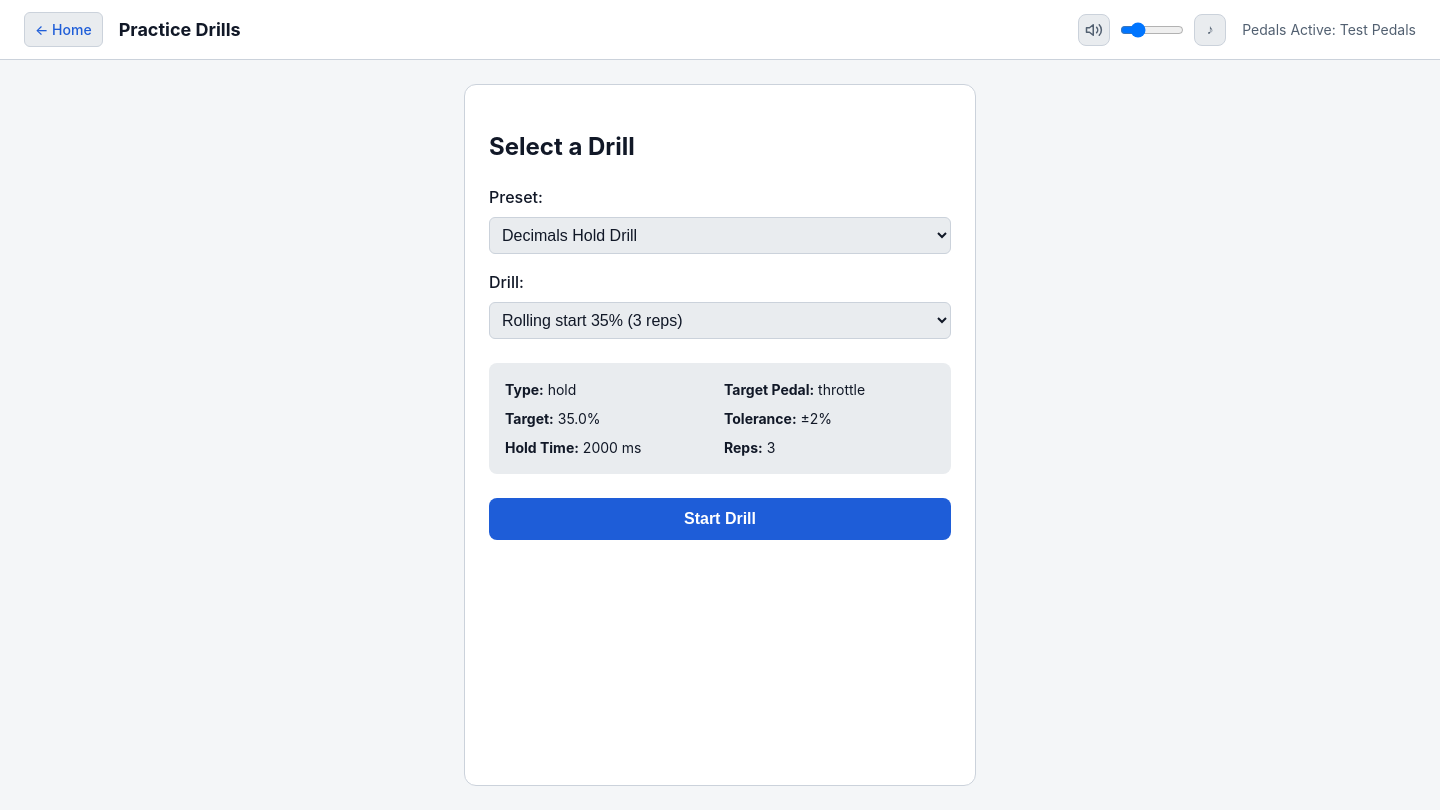
Drill page › formats target with one decimal when decimals=1 on hold drill
Click the button "Start Drill": click(720, 519) top-left (489, 498), bottom-right (951, 540)
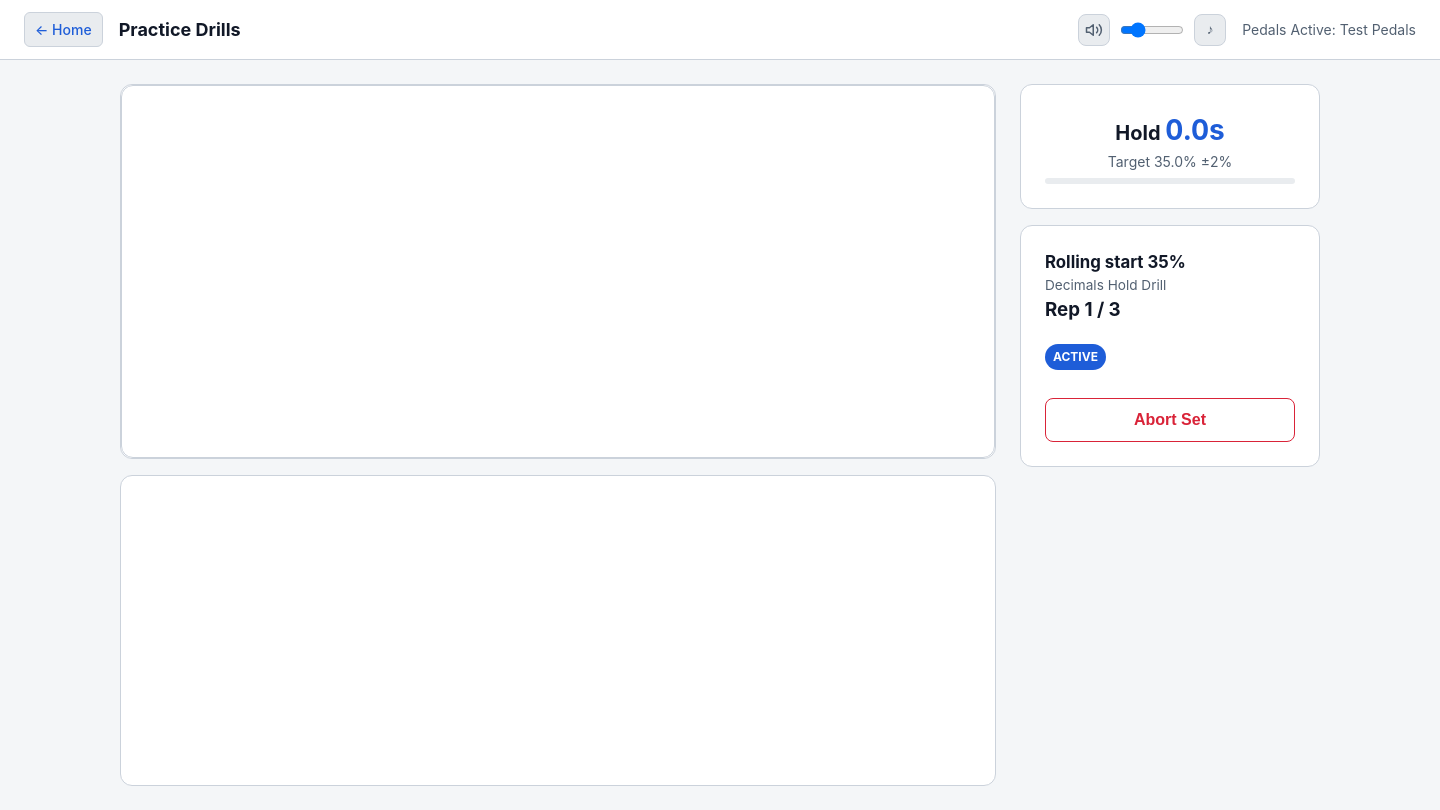
Now the element with test id "hold-hud" shows "Target 35.0% ±2", box top-left (1108, 153), bottom-right (1232, 170)
